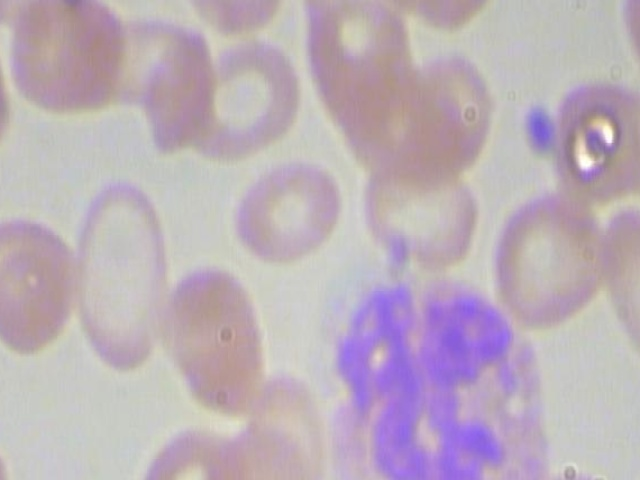Platelets: (515, 94, 562, 159)
RBC: (74, 175, 177, 385), (168, 257, 278, 422), (487, 179, 606, 331), (178, 38, 307, 163), (1, 0, 129, 125), (0, 172, 77, 378), (361, 147, 478, 273), (224, 158, 350, 264), (594, 200, 640, 387), (131, 424, 260, 480), (186, 0, 289, 49), (376, 0, 507, 35)
WBC: (304, 259, 556, 480)
